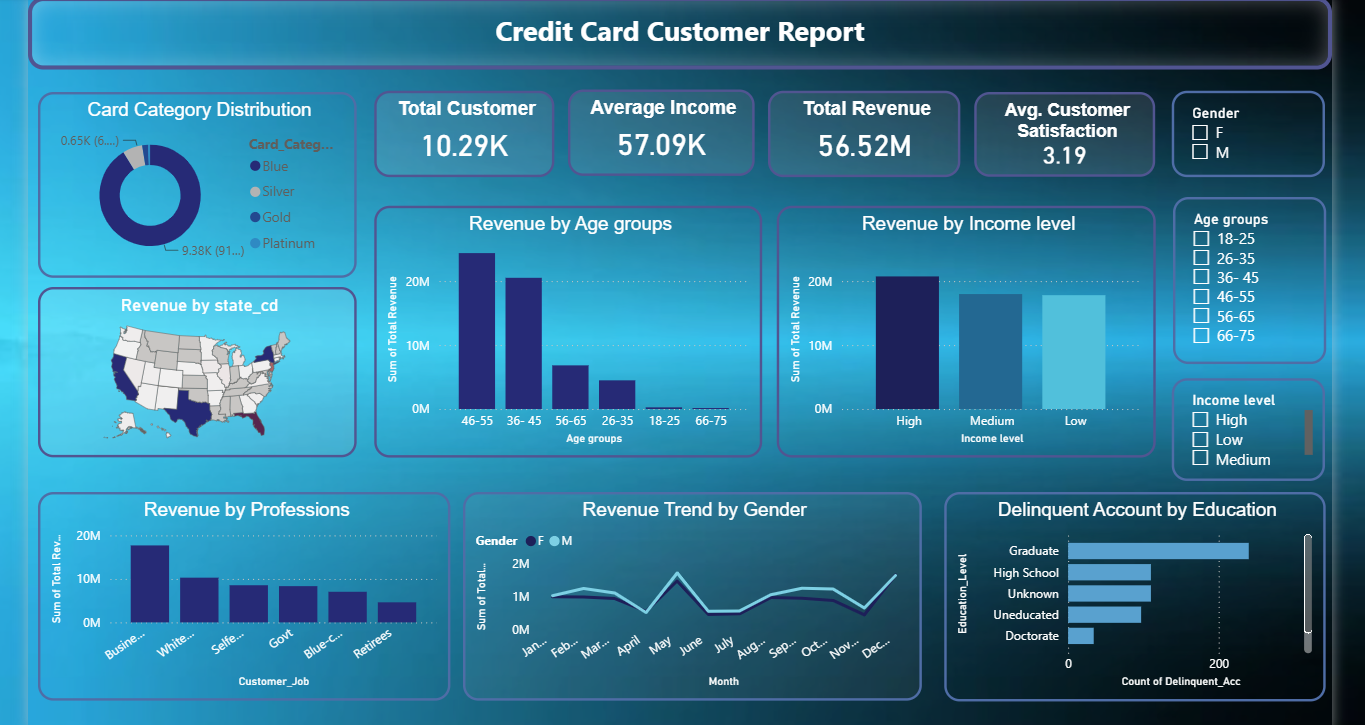

Layout of this report page (visuals, bound fields, positions):
{"tool":"powerbi","page":{"name":"Page 1","canvas":[1280,720],"ordinal":0},"visuals":[{"type":"textbox","box":[0,0,1280,70.9],"z":0},{"type":"slicer","fields":{"Values":["customer.Gender"]},"box":[1123.3,92.1,150.5,84.6],"z":1000},{"type":"slicer","fields":{"Values":["customer.Age groups"]},"box":[1123.8,196.2,150,163.8],"z":2000},{"type":"slicer","fields":{"Values":["customer.Custom"]},"box":[1123.3,374.4,150.5,100.8],"z":3000},{"type":"card","title":"Total Customer","fields":{"Values":["CountNonNull(customer.Client_Num)"]},"box":[339.6,92.1,176.6,84.6],"z":4000},{"type":"columnChart","title":" Revenue by Professions","fields":{"Category":["customer.Customer_Job"],"Y":["Sum(CreditCard.Total Revenue)"]},"box":[10,486.2,405,205],"z":5000},{"type":"card","title":"Average Income","fields":{"Values":["Avg(customer.Income)"]},"box":[529.9,90.8,182.9,84.6],"z":6000},{"type":"card","title":"Total Revenue","fields":{"Values":["Sum(CreditCard.Total Revenue)"]},"box":[726.5,92.1,189.1,84.6],"z":7000},{"type":"columnChart","title":" Revenue by Age groups","fields":{"Category":["customer.Age groups"],"Y":["Sum(CreditCard.Total Revenue)"]},"box":[339.6,205.3,380.7,247.5],"z":8000},{"type":"barChart","title":"Delinquent Account by Education","fields":{"Category":["customer.Education_Level"],"Y":["CountNonNull(CreditCard.Delinquent_Acc)"]},"box":[899.4,486.4,374.4,205.3],"z":9000},{"type":"donutChart","title":" Card Category Distribution","fields":{"Category":["CreditCard.Card_Category"],"Y":["CountNonNull(CreditCard.Card_Category)"]},"box":[10,93.8,312.5,182.5],"z":10000},{"type":"clusteredColumnChart","title":"Revenue by Income level","fields":{"Y":["Sum(CreditCard.Total Revenue)"],"Category":["customer.Income level"]},"box":[735.2,205.3,371.9,247.5],"z":11000},{"type":"shapeMap","title":"Revenue by state_cd","fields":{"Category":["customer.state_cd"],"Value":["Sum(CreditCard.Total Revenue)"]},"box":[10,285,312.5,167.5],"z":12000},{"type":"card","title":"Avg. Customer Satisfaction","fields":{"Values":["Avg(customer.Cust_Satisfaction_Score)"]},"box":[928.8,93.3,177.9,83.4],"z":13000},{"type":"lineChart","title":" Revenue Trend by Gender","fields":{"Category":["CreditCard.Week_Start_Date.Variation.Date Hierarchy.Year","CreditCard.Week_Start_Date.Variation.Date Hierarchy.Month"],"Y":["Sum(CreditCard.Total Revenue)"],"Series":["customer.Gender"]},"box":[427.5,486.2,450,205],"z":14000}]}

Visuals, with their boxes on the page's 1280x720 design canvas (x1, y1, x2, y2). These are canvas units, not pixel positions in the 1365x725 screenshot, which may show the page scaled, cropped or inside an application window:
textbox: bbox(0, 0, 1280, 71)
slicer - customer.Gender: bbox(1123, 92, 1274, 177)
slicer - customer.Age groups: bbox(1124, 196, 1274, 360)
slicer - customer.Custom: bbox(1123, 374, 1274, 475)
"Total Customer" card: bbox(340, 92, 516, 177)
" Revenue by Professions" columnChart: bbox(10, 486, 415, 691)
"Average Income" card: bbox(530, 91, 713, 175)
"Total Revenue" card: bbox(726, 92, 916, 177)
" Revenue by Age groups" columnChart: bbox(340, 205, 720, 453)
"Delinquent Account by Education" barChart: bbox(899, 486, 1274, 692)
" Card Category Distribution" donutChart: bbox(10, 94, 322, 276)
"Revenue by Income level" clusteredColumnChart: bbox(735, 205, 1107, 453)
"Revenue by state_cd" shapeMap: bbox(10, 285, 322, 452)
"Avg. Customer Satisfaction" card: bbox(929, 93, 1107, 177)
" Revenue Trend by Gender" lineChart: bbox(428, 486, 878, 691)
